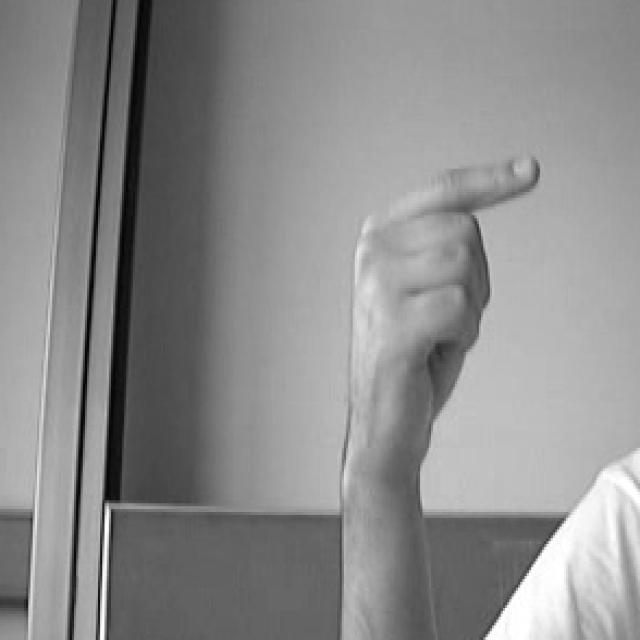G: (329, 149, 553, 486)
